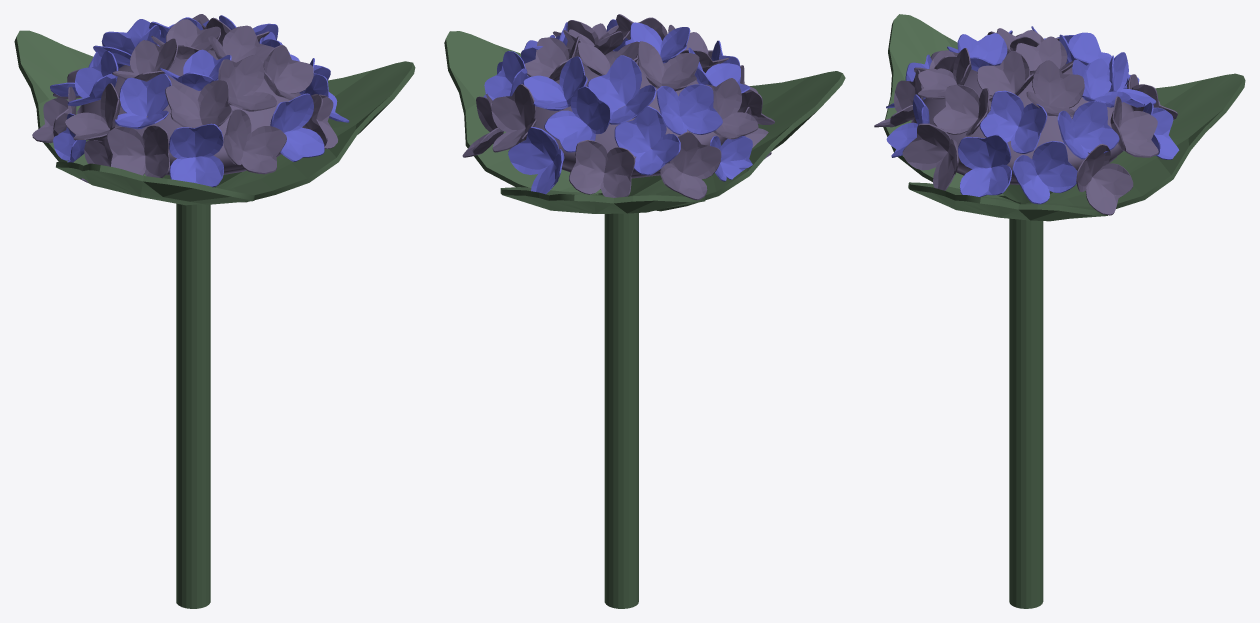
File: hydrangea.obj
The picture shows the model from 3 angles, left to right: view 1: azimuth 30°, elevation 25°; view 2: azimuth 150°, elevation 25°; view 3: azimuth 270°, elevation 25°; orthographic projection.
Parts seen in each view (by area): view 1: hydrangea stem, hydrangea leaves leaf1, hydrangea leaf2 leaves, hydrangea leaves leaf, petals hydrangea colour1 petal68, colour2 petals hydrangea petal61, base colour2 petals hydrangea, colour2 petals hydrangea petal69, colour2 petals hydrangea petal59, petals hydrangea colour1 petal60, petals hydrangea petal62 colour1, colour2 petals hydrangea petal51 (+14 smaller); view 2: hydrangea stem, hydrangea leaves leaf1, hydrangea leaf2 leaves, hydrangea leaves leaf, colour2 petals hydrangea petal75, petals hydrangea colour1 petal76, petals hydrangea colour1 petal71, petals hydrangea colour1 petal77, petals hydrangea colour1 petal73, colour2 petals hydrangea petal79, petals hydrangea colour1 petal74, colour2 petals hydrangea petal72 (+15 smaller); view 3: hydrangea stem, hydrangea leaves leaf, hydrangea leaf2 leaves, hydrangea leaves leaf1, petals hydrangea colour1 petal64, petals hydrangea colour1 petal65, petals hydrangea colour1 petal54, base colour2 petals hydrangea, colour2 petals hydrangea petal67, colour2 petals hydrangea petal63, petals hydrangea colour1 petal66, colour2 petals hydrangea petal55 (+14 smaller).
Part boxes in pixels (left/top/right/bottom): hydrangea stem: left=162, top=172, right=241, bottom=608; hydrangea leaves leaf1: left=215, top=61, right=415, bottom=202; hydrangea leaf2 leaves: left=56, top=162, right=254, bottom=205; hydrangea leaves leaf: left=14, top=30, right=145, bottom=176; petals hydrangea colour1 petal68: left=169, top=123, right=223, bottom=187; colour2 petals hydrangea petal61: left=223, top=109, right=286, bottom=174; base colour2 petals hydrangea: left=77, top=50, right=303, bottom=175; colour2 petals hydrangea petal69: left=106, top=125, right=169, bottom=177; colour2 petals hydrangea petal59: left=165, top=80, right=232, bottom=127; petals hydrangea colour1 petal60: left=114, top=73, right=171, bottom=129; petals hydrangea petal62 colour1: left=270, top=93, right=324, bottom=161; colour2 petals hydrangea petal51: left=218, top=54, right=276, bottom=111; hydrangea stem: left=570, top=172, right=661, bottom=608; hydrangea leaves leaf1: left=444, top=31, right=602, bottom=195; hydrangea leaf2 leaves: left=635, top=71, right=845, bottom=211; hydrangea leaves leaf: left=500, top=187, right=705, bottom=213; colour2 petals hydrangea petal75: left=569, top=140, right=635, bottom=197; petals hydrangea colour1 petal76: left=614, top=106, right=680, bottom=175; petals hydrangea colour1 petal71: left=587, top=55, right=656, bottom=124; petals hydrangea colour1 petal77: left=656, top=84, right=722, bottom=134; petals hydrangea colour1 petal73: left=544, top=86, right=611, bottom=152; colour2 petals hydrangea petal79: left=660, top=131, right=721, bottom=200; petals hydrangea colour1 petal74: left=508, top=127, right=564, bottom=194; colour2 petals hydrangea petal72: left=491, top=84, right=536, bottom=152; hydrangea stem: left=1002, top=184, right=1052, bottom=608; hydrangea leaves leaf: left=1044, top=73, right=1245, bottom=208; hydrangea leaf2 leaves: left=883, top=14, right=1009, bottom=199; hydrangea leaves leaf1: left=908, top=182, right=1107, bottom=221; petals hydrangea colour1 petal64: left=958, top=134, right=1011, bottom=197; petals hydrangea colour1 petal65: left=1012, top=141, right=1077, bottom=204; petals hydrangea colour1 petal54: left=979, top=90, right=1047, bottom=153; base colour2 petals hydrangea: left=911, top=67, right=1134, bottom=184; colour2 petals hydrangea petal67: left=1076, top=143, right=1133, bottom=215; colour2 petals hydrangea petal63: left=902, top=123, right=958, bottom=190; petals hydrangea colour1 petal66: left=1057, top=101, right=1119, bottom=159; colour2 petals hydrangea petal55: left=1026, top=60, right=1084, bottom=116.
Bounding box in the file's own units: 3.35 × 5.05 × 3.05.
